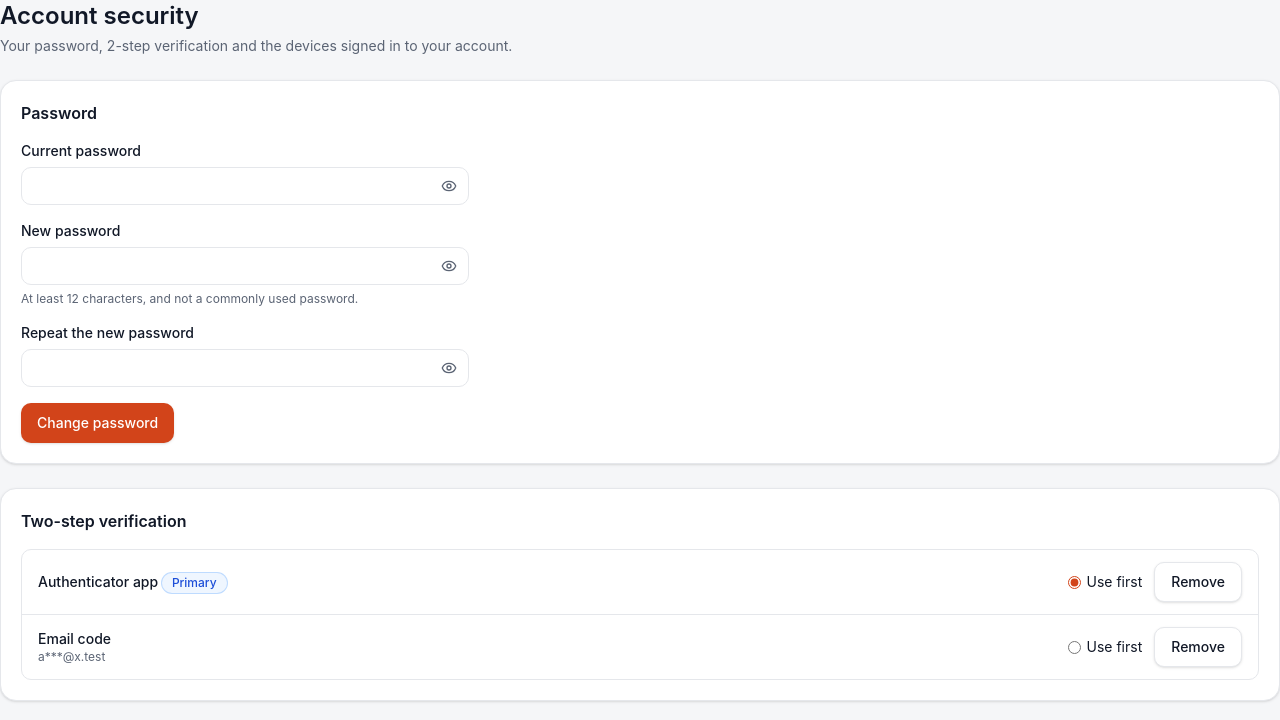
Test: /account/security › the last method cannot be removed: the API refusal is explained
The image size is (1280, 720).
Click the button "Remove" in the row of "Authenticator app": (1198, 582) [1154, 562, 1242, 602]
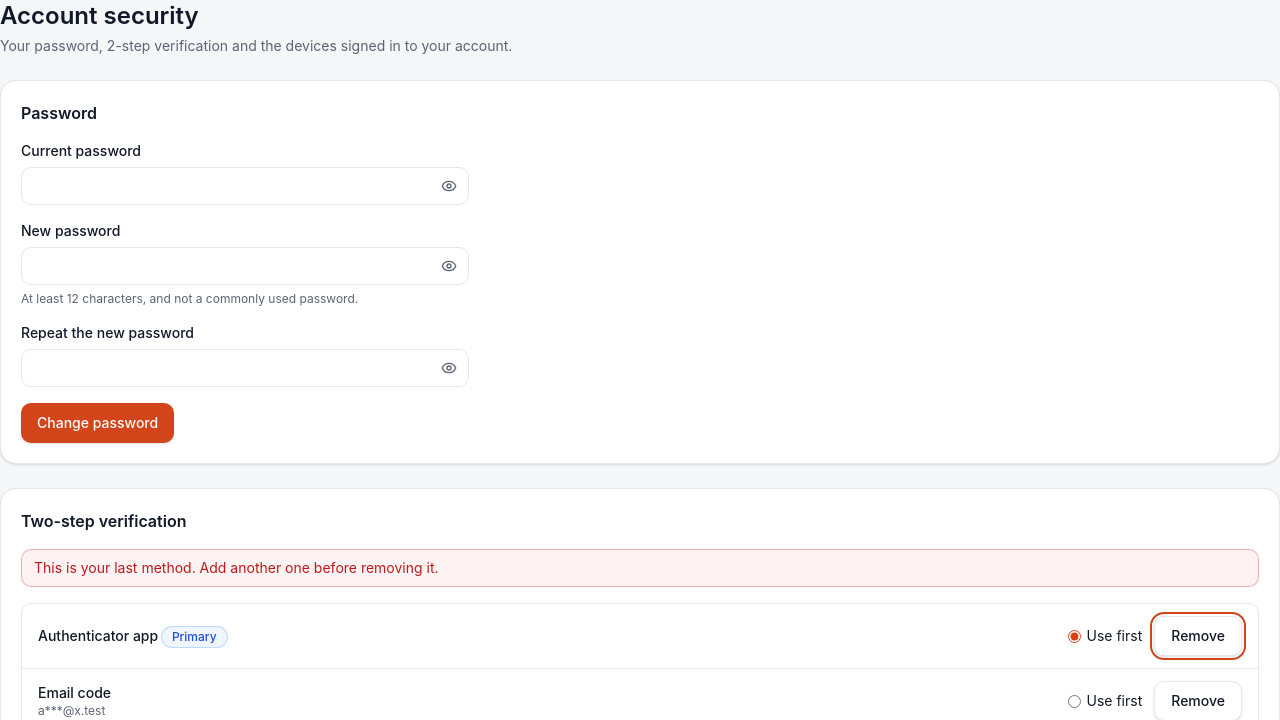
Now the text "This is your last method. Add another one before removing it." is shown, box [21, 549, 1259, 587]
